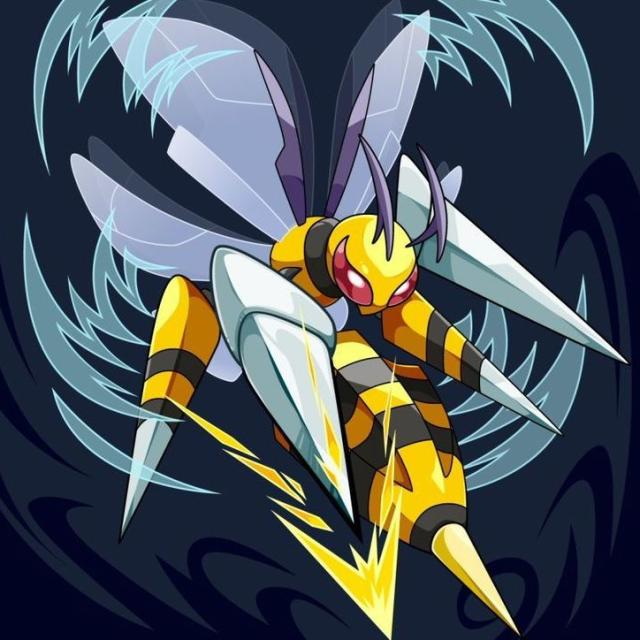Beedrill: (112, 112, 557, 574)
